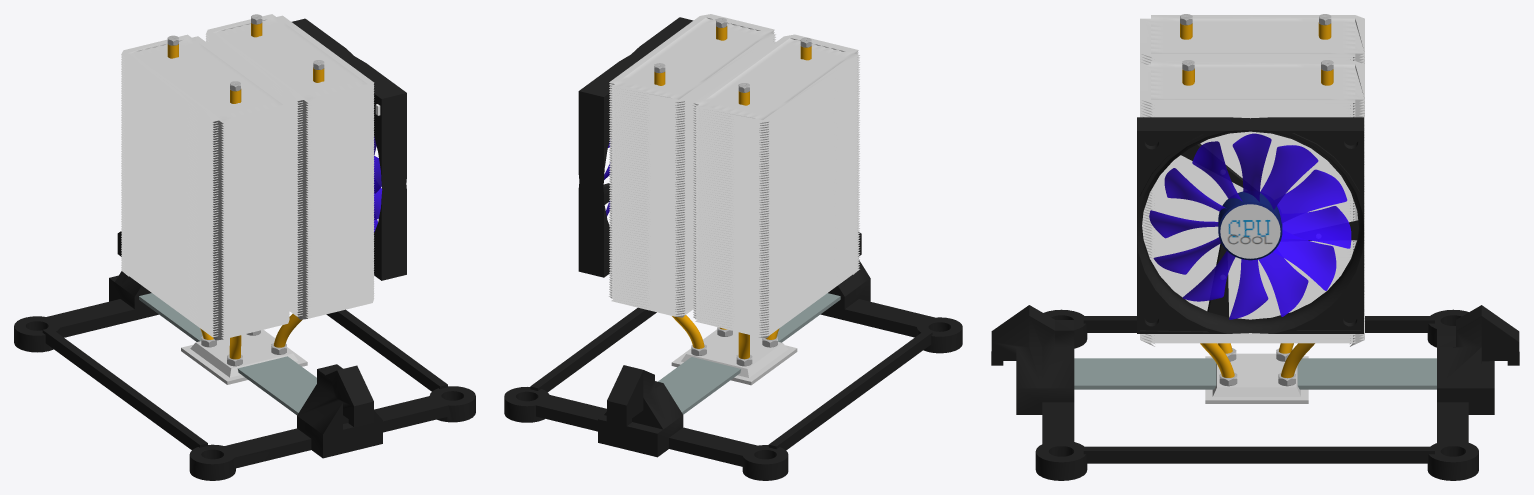
The model's file is cpu-cooler.glb.
3 renders of one model, left to right at view 1: azimuth 30°, elevation 25°; view 2: azimuth 150°, elevation 25°; view 3: azimuth 270°, elevation 25°, orthographic. The views are drawn at different scales.
Visible parts, largest first — view 1: Radiador 2.001, Radiador.001, Object_2, Caja Ventilador.003, Cube, Disipador.001, Tubo .001; view 2: Radiador 2.001, Radiador.001, Object_2, Caja Ventilador.003, Cube, Disipador.001, Tubo 4.001; view 3: Object_2, Radiador.001, Caja Ventilador.003, Radiador 2.001, Cube, Caja Ventilador.002, Disipador.001, Motor.002, Paleta 3.001, Paleta 4.001, Paleta 2.001, Paleta 5.001 (+11 smaller).
Part boxes in pixels (<box>): Radiador 2.001: <box>121,34,289,340</box>; Radiador.001: <box>205,14,374,319</box>; Object_2: <box>14,231,475,480</box>; Caja Ventilador.003: <box>292,18,406,280</box>; Cube: <box>139,293,316,414</box>; Disipador.001: <box>181,329,307,384</box>; Tubo .001: <box>273,67,324,347</box>; Radiador 2.001: <box>693,34,859,338</box>; Radiador.001: <box>609,14,775,317</box>; Object_2: <box>504,232,962,480</box>; Caja Ventilador.003: <box>578,17,693,277</box>; Cube: <box>658,293,840,414</box>; Disipador.001: <box>671,329,797,385</box>; Tubo 4.001: <box>654,72,704,348</box>; Object_2: <box>991,305,1519,480</box>; Radiador.001: <box>1140,61,1364,346</box>; Caja Ventilador.003: <box>1137,117,1363,333</box>; Radiador 2.001: <box>1140,15,1364,64</box>; Cube: <box>1074,358,1436,389</box>; Caja Ventilador.002: <box>1137,130,1363,333</box>; Disipador.001: <box>1205,353,1308,403</box>; Motor.002: <box>1220,204,1280,258</box>; Paleta 3.001: <box>1281,206,1351,248</box>; Paleta 4.001: <box>1277,169,1347,223</box>; Paleta 2.001: <box>1273,238,1336,290</box>; Paleta 5.001: <box>1260,145,1318,210</box>.
Size of the model in its own units: 11.2 by 12.52 by 16.39.
Materials: 11 (1 with a texture image).
